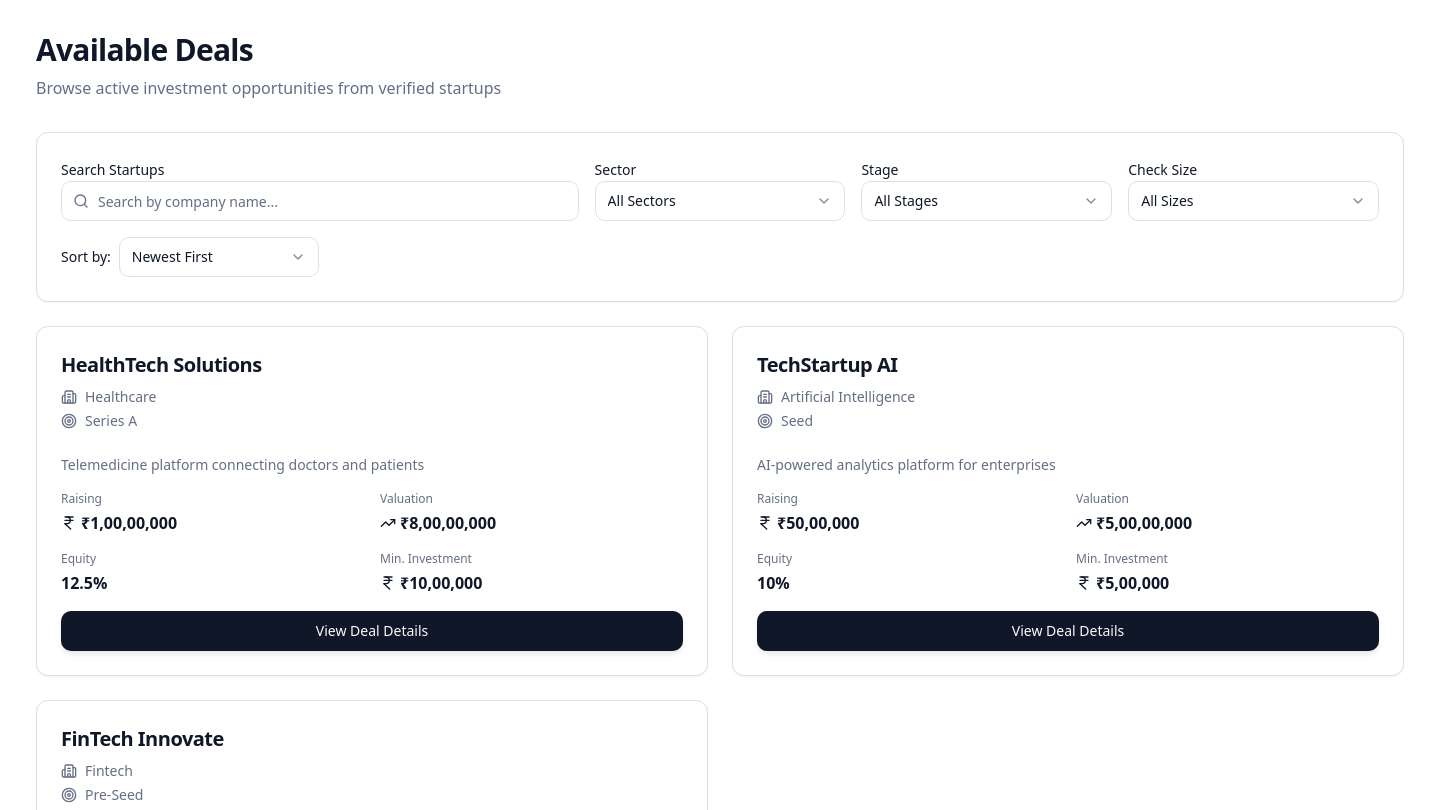
Test case: US-INVESTOR-003: Browse Available Deals › Filter by Check Size › should filter deals by check size range
This screenshot has width=1440, height=810.
expect the text "TechStartup AI" is shown: met, box [757,351,898,378]
Click the dropdown named "Check Size".
click(1254, 201)  # box [1128,181,1379,221]
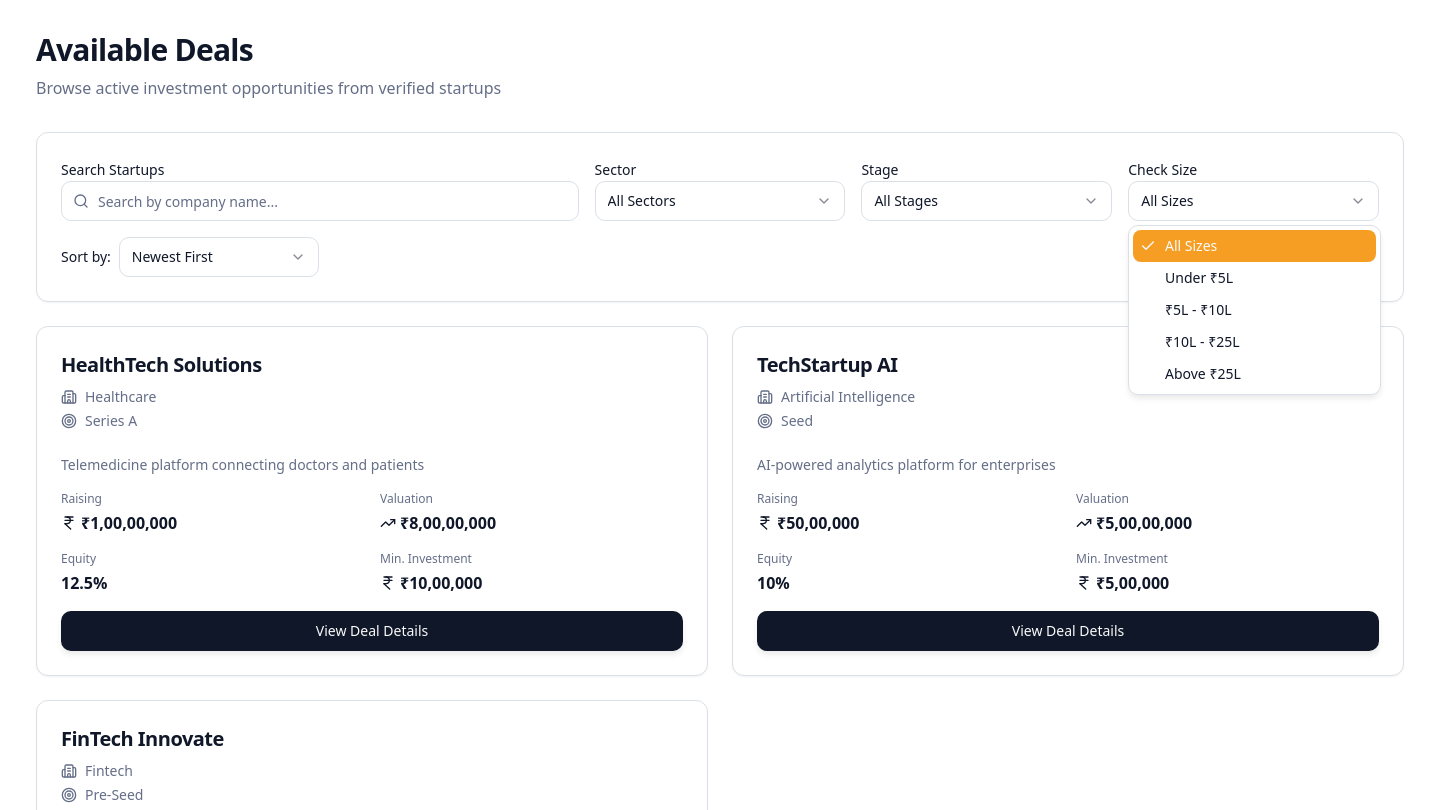
Click the option "Under ₹5L".
click(1199, 278)  # box [1165,268,1233,287]
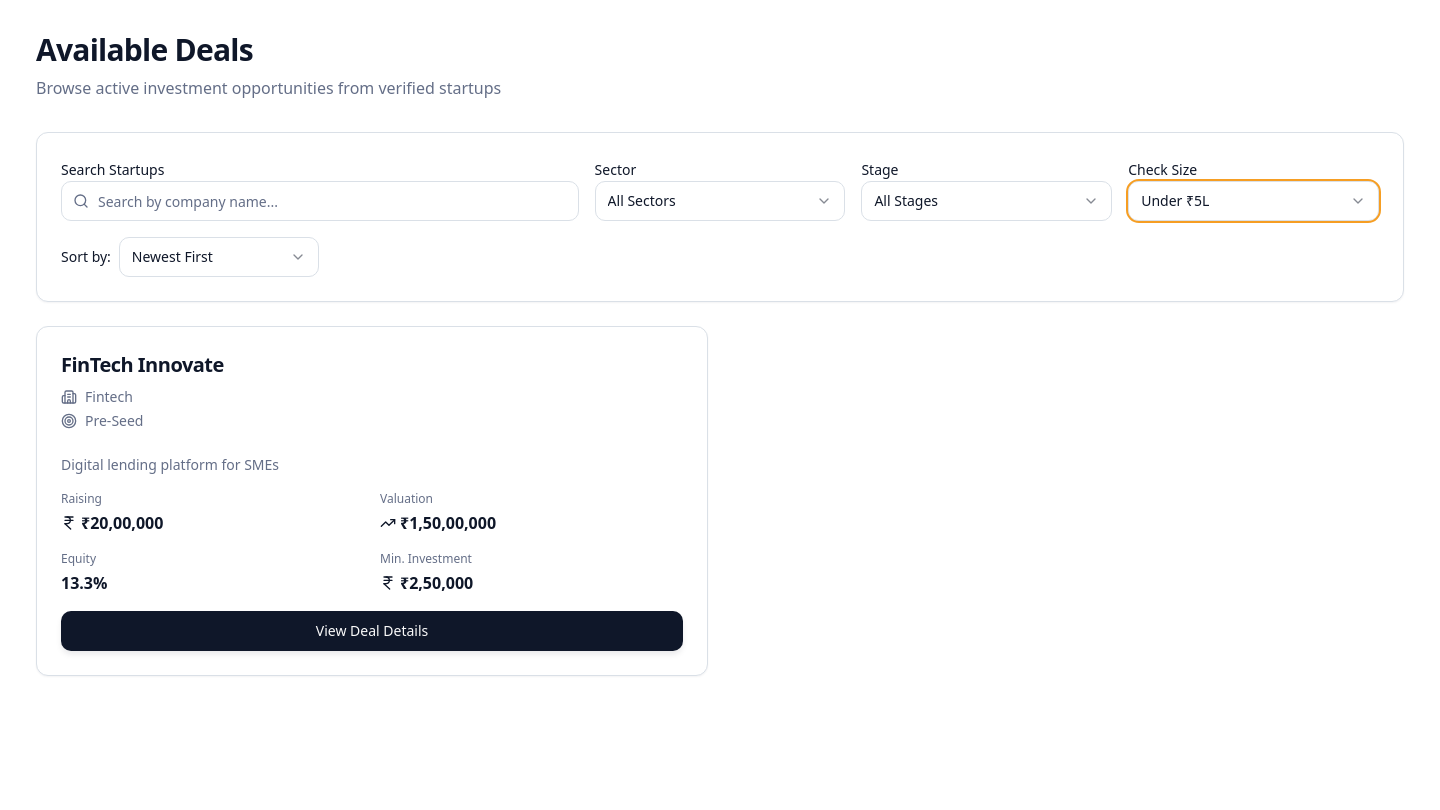
expect the text "FinTech Innovate" is shown: met, box [61,351,224,378]
expect the text "HealthTech Solutions" is gone: met
